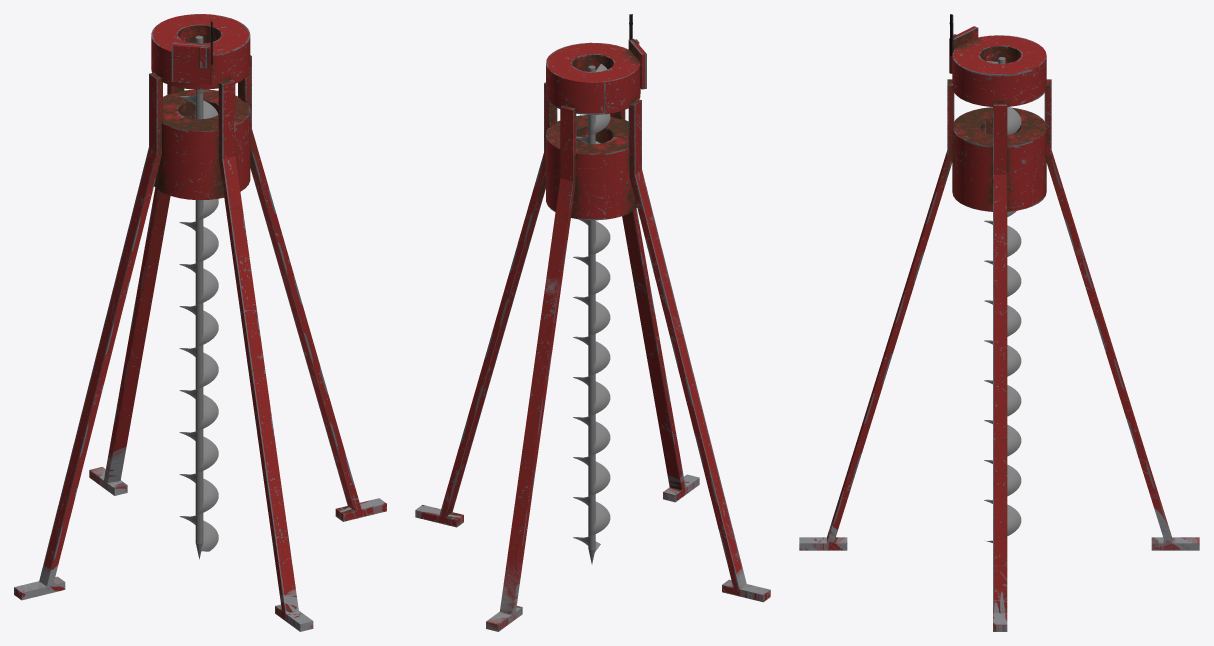
3 renders of one model, left to right at view 1: azimuth 30°, elevation 25°; view 2: azimuth 150°, elevation 25°; view 3: azimuth 270°, elevation 25°, orthographic. The views are drawn at different scales.
Visible parts, largest first — view 1: 드릴링머신, 드릴; view 2: 드릴링머신, 드릴; view 3: 드릴링머신, 드릴.
Boxes of the visible parts, bbox=[...] form: 드릴링머신: bbox=[14, 14, 386, 631]; 드릴: bbox=[179, 35, 218, 559]; 드릴링머신: bbox=[415, 14, 770, 631]; 드릴: bbox=[573, 64, 610, 564]; 드릴링머신: bbox=[799, 14, 1199, 631]; 드릴: bbox=[984, 57, 1021, 542].
Size of the model in its own units: 97.93 by 144 by 97.93.
